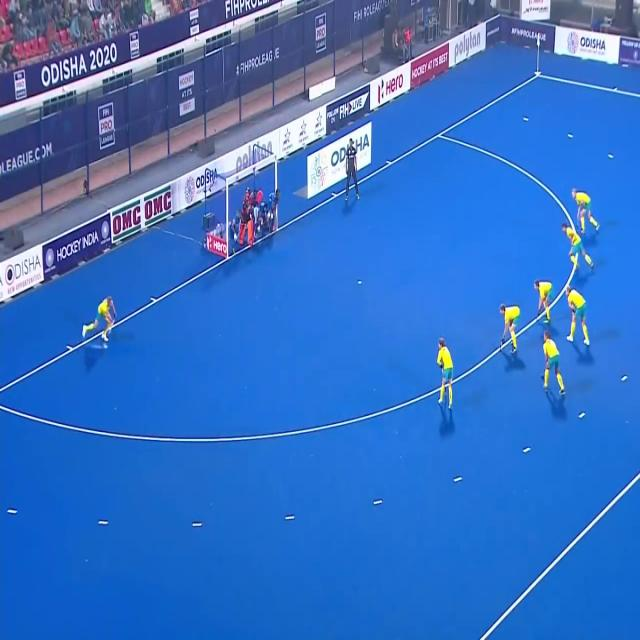ball: (101, 342, 109, 350)
